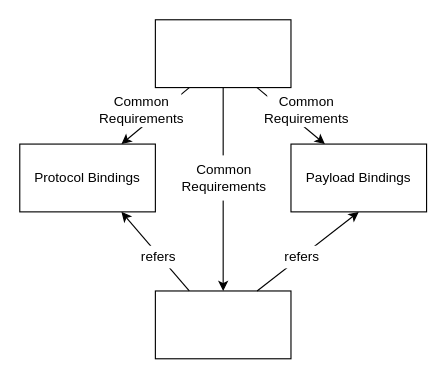
Some shapes in this 446 by 379 pixel diagram are drawn without their labels. The centre of each missing label's shape, as x and y in pixels:
"Core Document" belongs at point (222, 53).
"Platform Bindings" belongs at point (222, 324).
